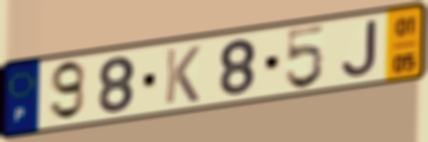5: (283, 22, 326, 92)
8: (217, 36, 260, 99), (97, 54, 137, 116)
9: (45, 60, 87, 124)
J: (339, 17, 379, 80)
K: (162, 44, 203, 107)
